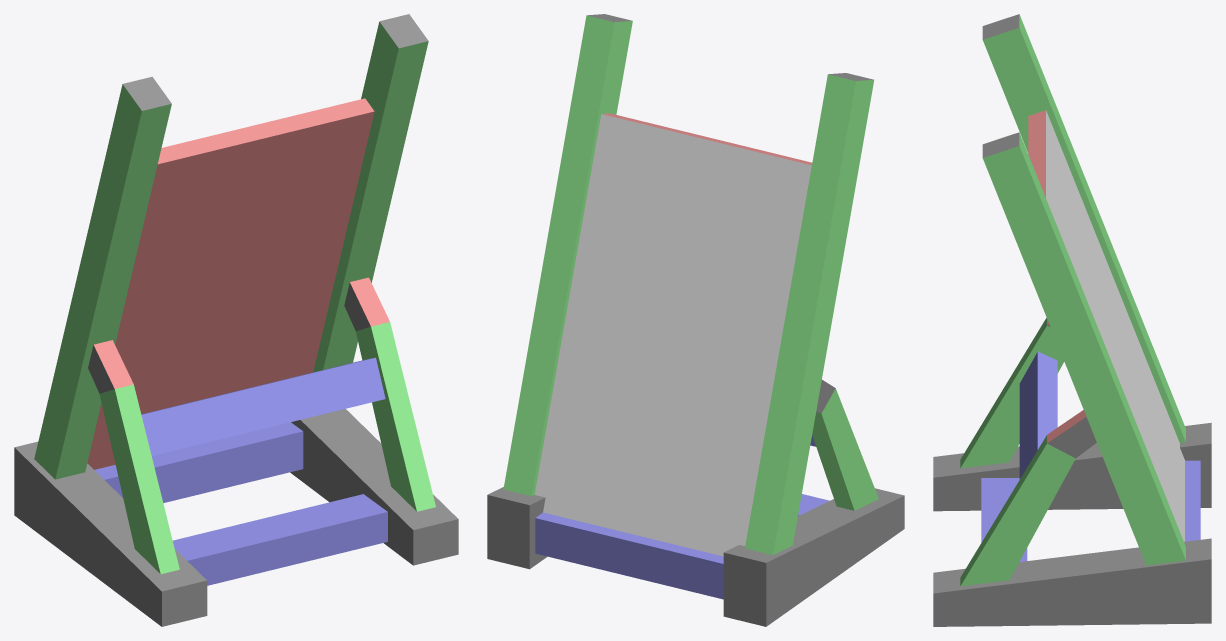
File: Old_War_s__barricade04.gltf
The picture shows the model from 3 angles, left to right: view 1: azimuth 30°, elevation 25°; view 2: azimuth 150°, elevation 25°; view 3: azimuth 270°, elevation 25°; orthographic projection. The views are drawn at different scales.
Parts seen in each view (by area): view 1: barricade04; view 2: barricade04; view 3: barricade04.
Boxes of the visible parts, <box> form: barricade04: <box>14,14,458,626</box>; barricade04: <box>487,14,904,626</box>; barricade04: <box>933,14,1211,626</box>.
Size of the model in its own units: 0.5948 by 0.9733 by 0.512.
